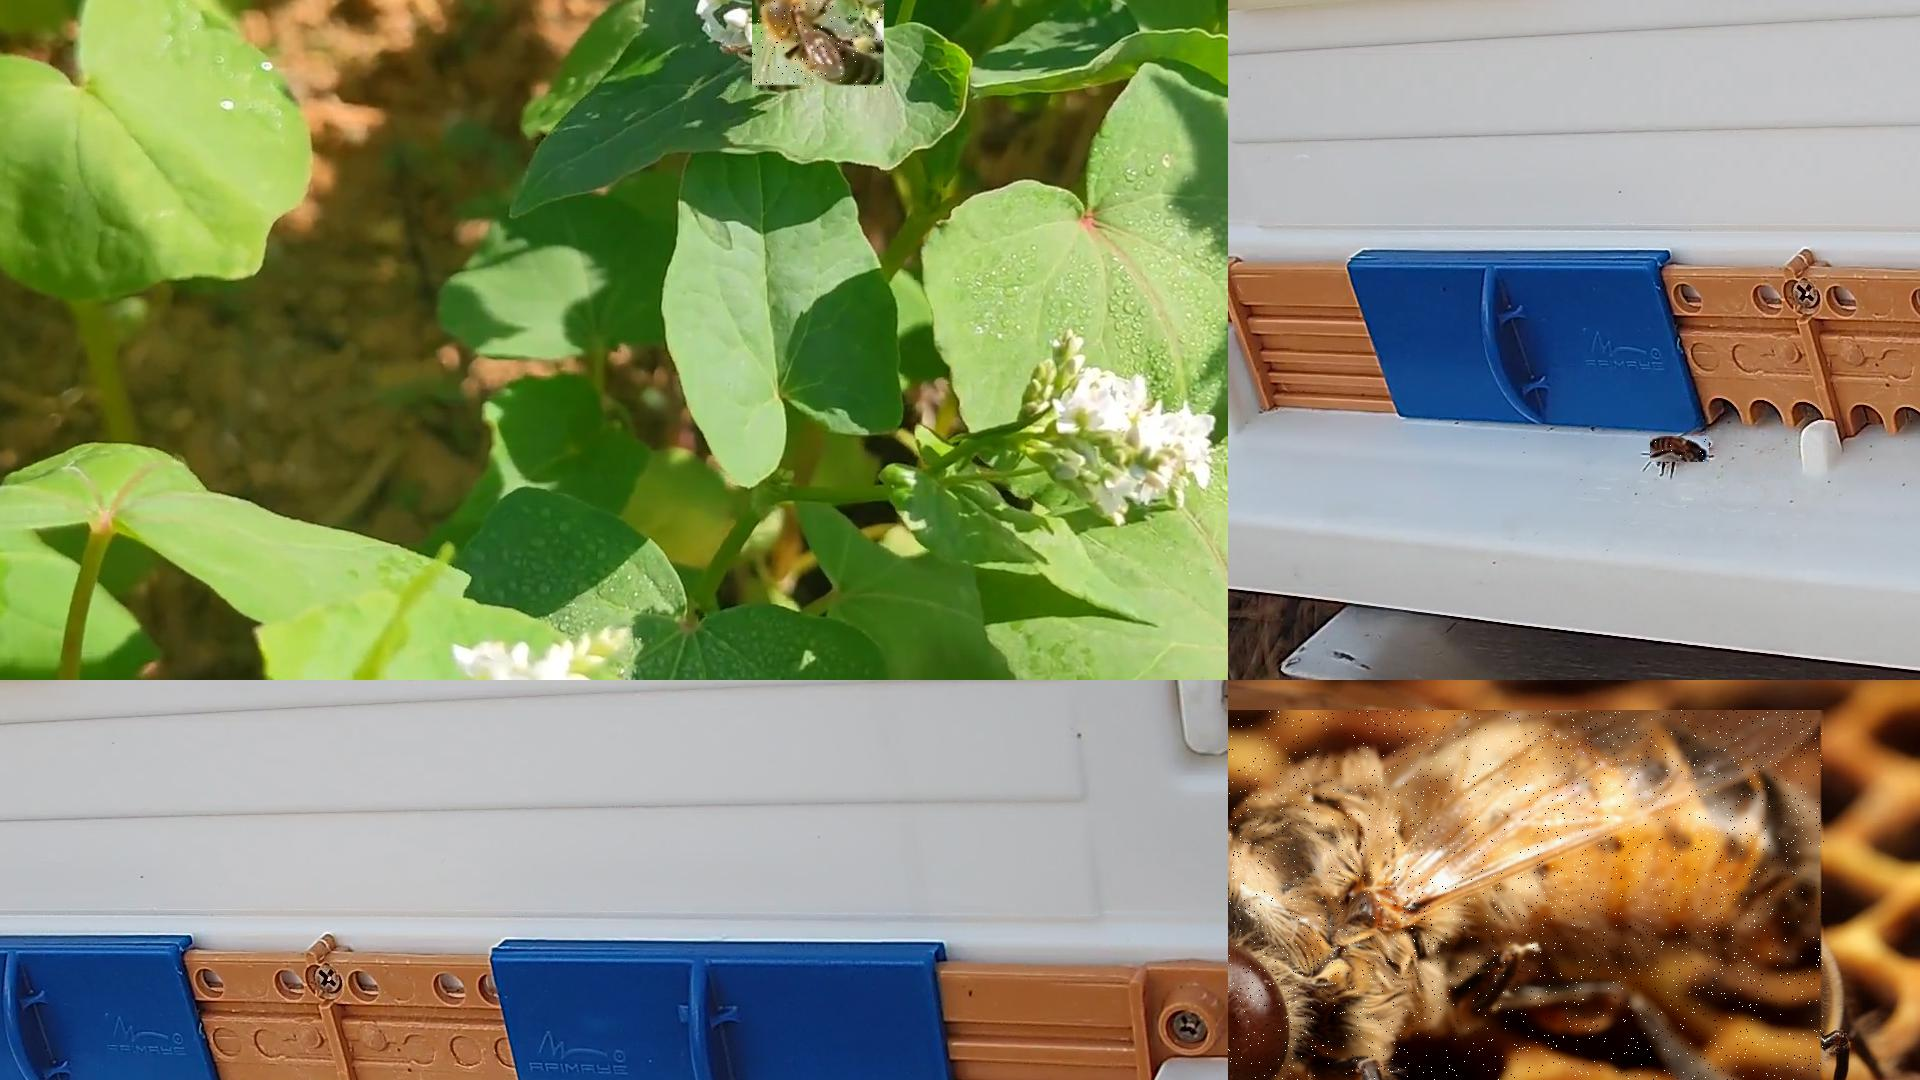bee: (752, 0, 886, 90), (1651, 436, 1710, 463)
drone: (1228, 709, 1826, 1079)
